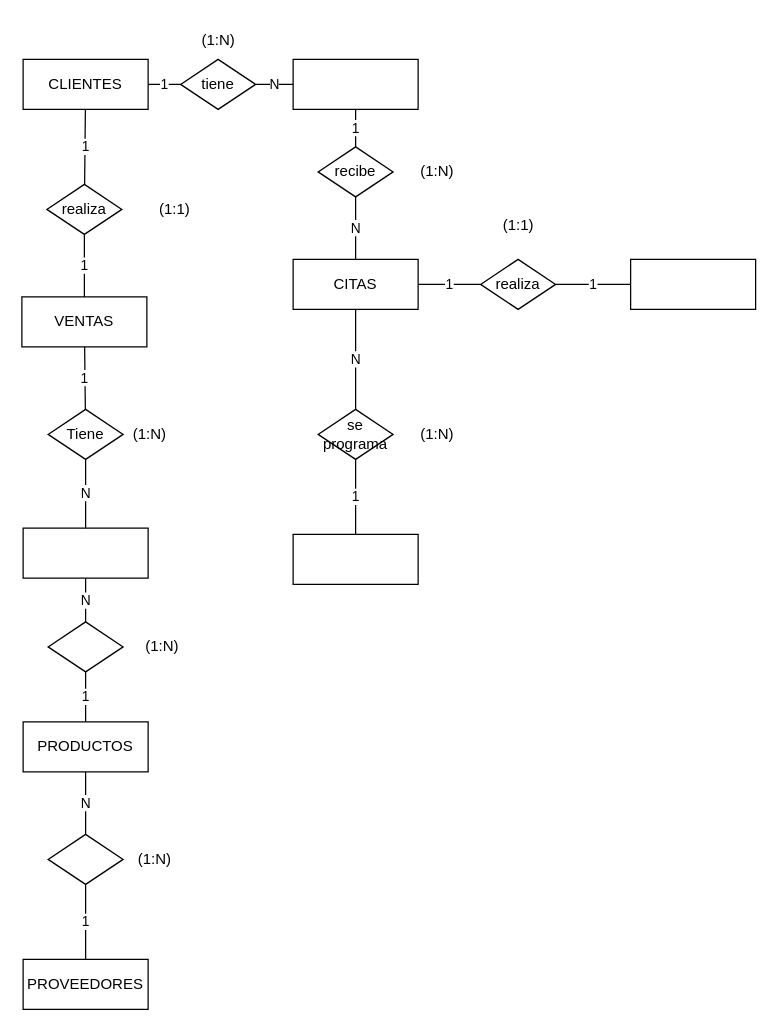
This 778x1031 diagram has some shape labels left out. Each missing label, with the centre of its shape:
compone: point 85,646
DETALLE_VENTA: point 85,552
EMPLEADOS: point 692,283
MASCOTAS: point 355,83
Poseen: point 85,858
SERVICIOS: point 355,558
